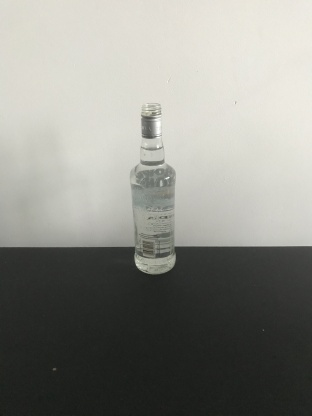nakretka: (139, 101, 163, 139)
